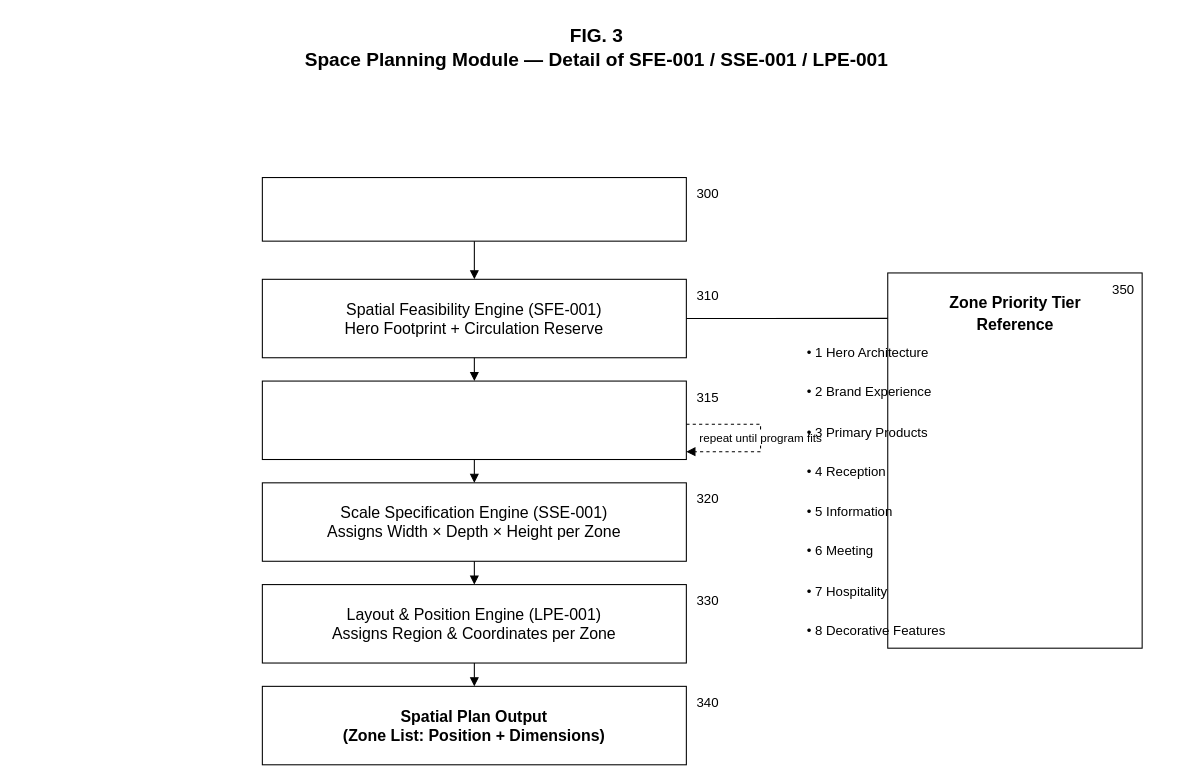
This 1191x783 diagram has some shape labels left out. Each missing label, with the box of its shape:
Booth Dimensions & Requirements Input: (261, 176, 686, 241)
Zone Priority Reduction Loop (Tier 8 → Tier 2): (261, 380, 686, 460)
